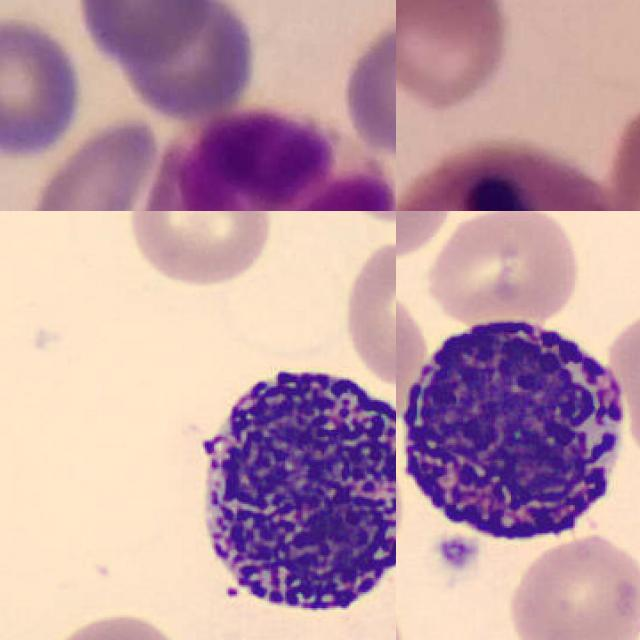Basophil: (176, 343, 396, 630), (396, 304, 637, 551)
Eosinophil: (143, 108, 396, 211)
Neutrophil: (396, 143, 634, 211)
Platelets: (429, 532, 483, 576)
RBC: (424, 211, 582, 325), (504, 529, 640, 640), (125, 211, 276, 289), (338, 234, 396, 389), (603, 305, 640, 462), (396, 279, 430, 434)
